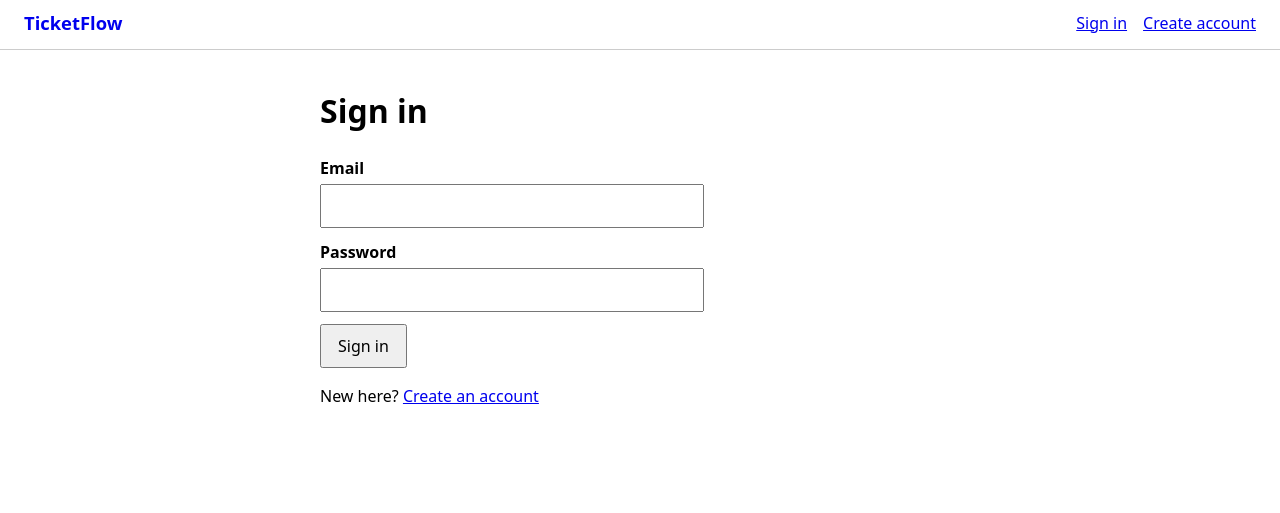
the sign in page › asks the person to wait when there were too many attempts
Expected: the heading "Sign in" is shown, [320, 89, 428, 132]
Type "ada@example.com" into the field labelled "Email".
click(512, 206); type("ada@example.com")  # box [320, 184, 704, 228]
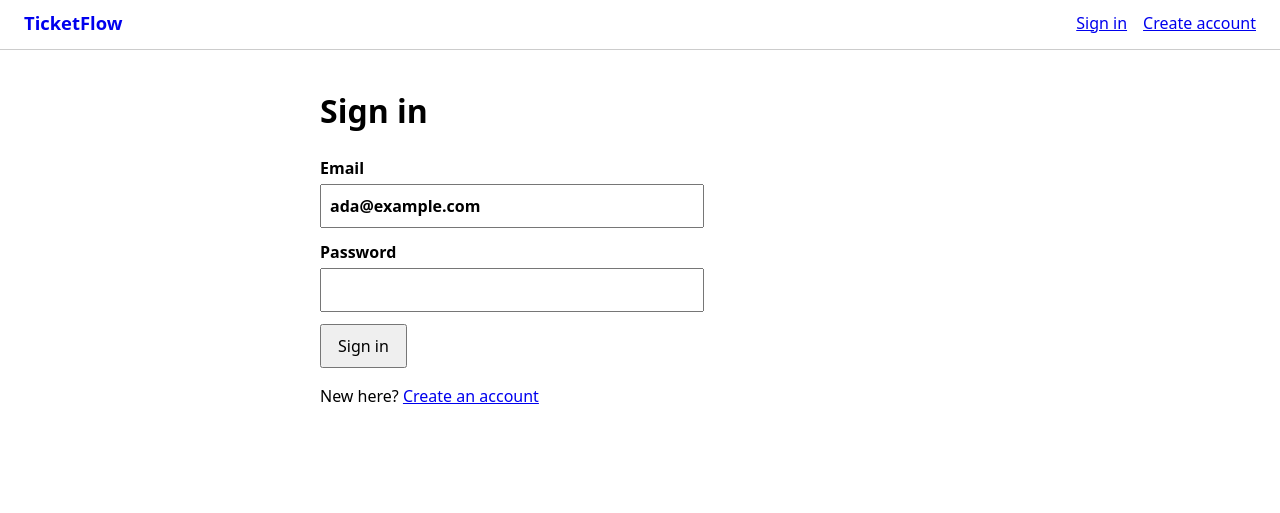
Type "a long password" into the password field labelled "Password".
click(512, 290); type("a long password")  # box [320, 268, 704, 312]
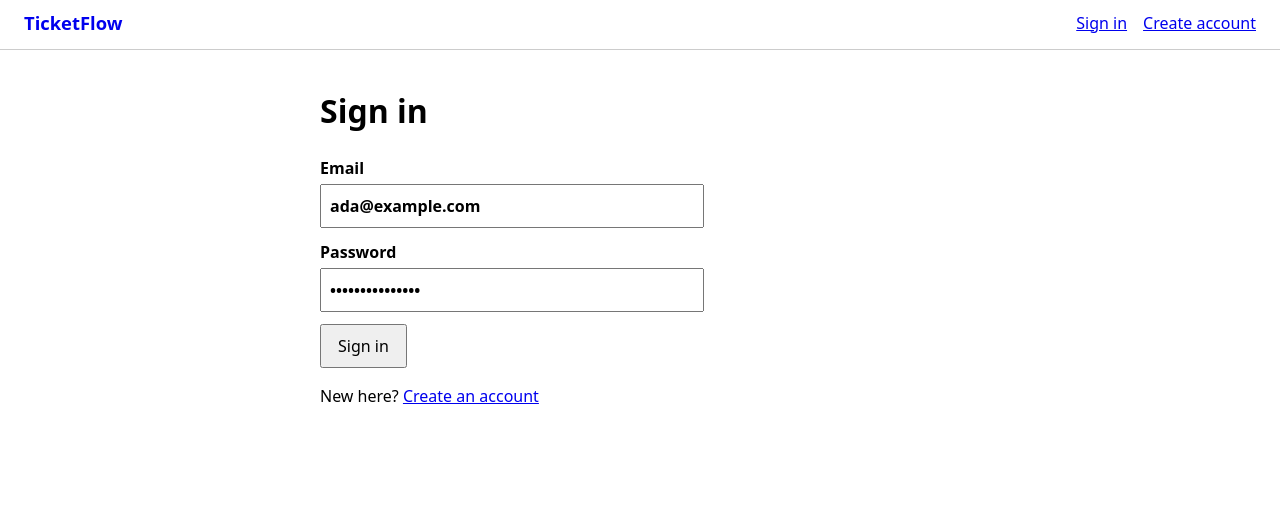
Click the button "Sign in".
click(363, 346)  # box [320, 324, 407, 368]
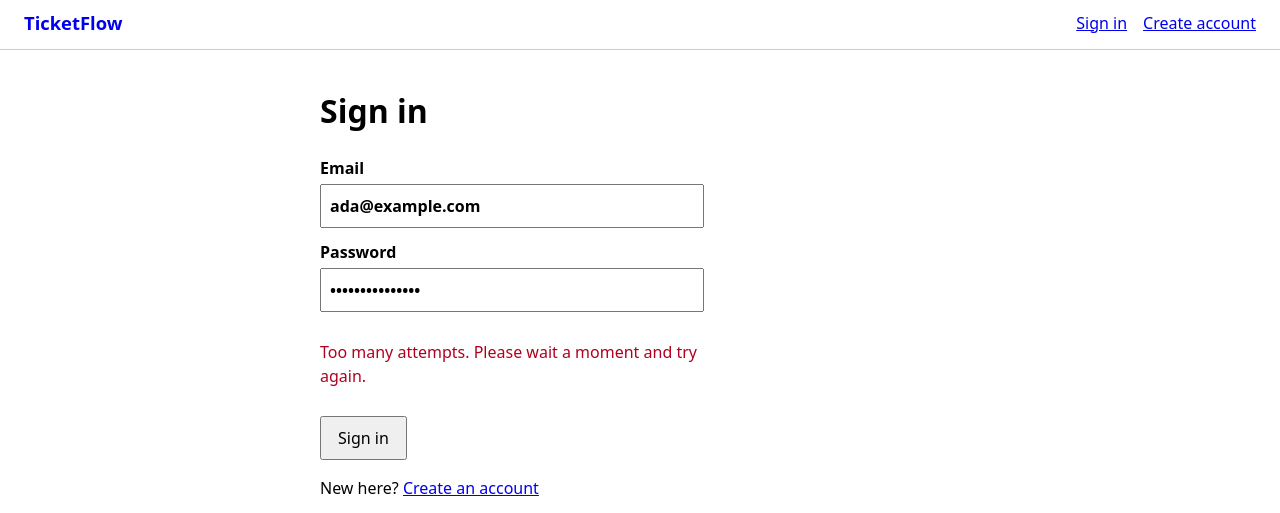
Now the message shows "Too many attempts", box [320, 342, 697, 388]
